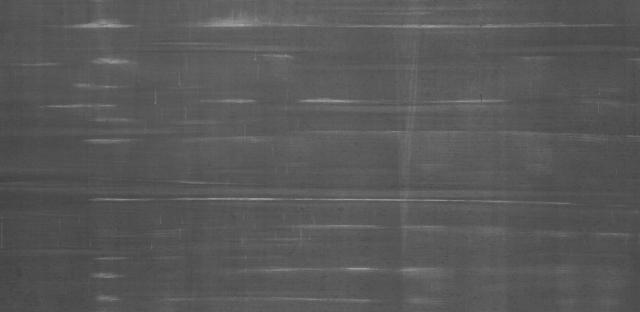waist_folding: (55, 12, 559, 282)
